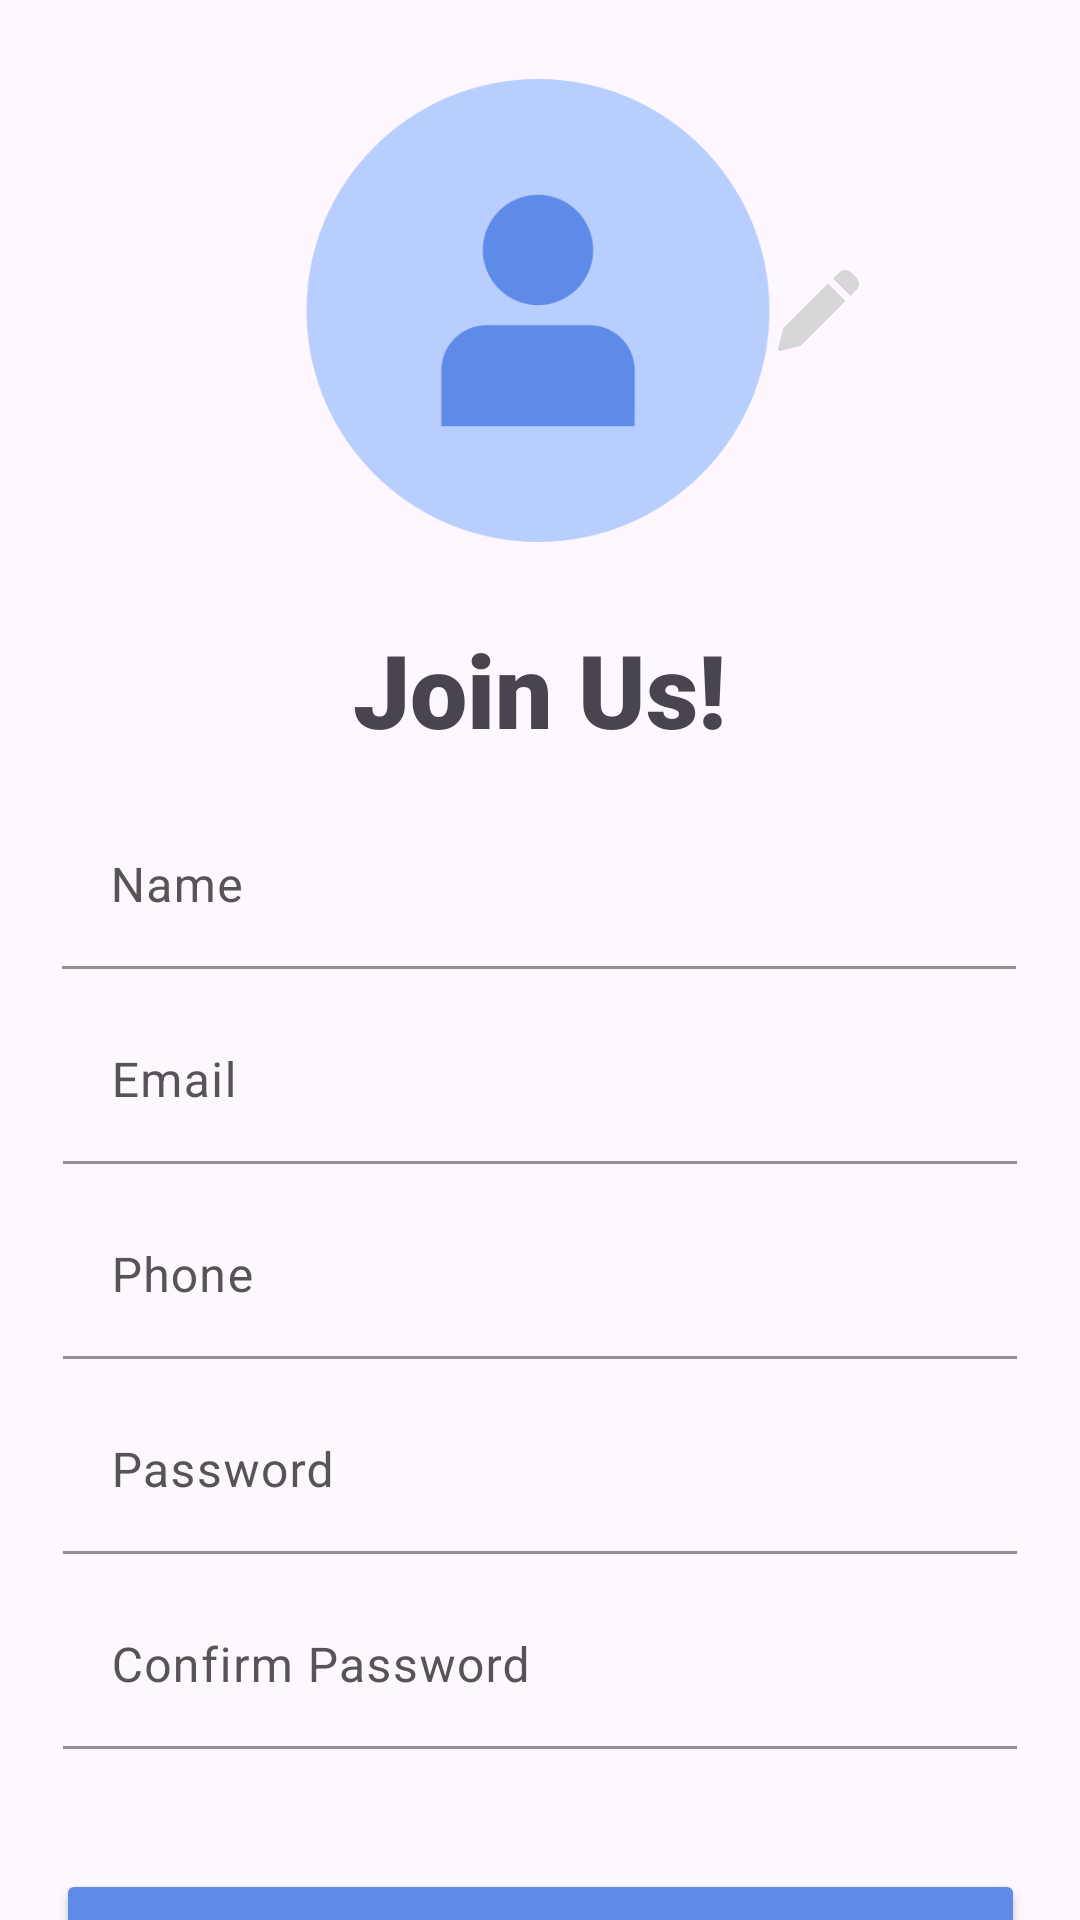

Point at icon controls on the screen. Image size 1080×1920, points as [x,y].
edit: [818,310]
